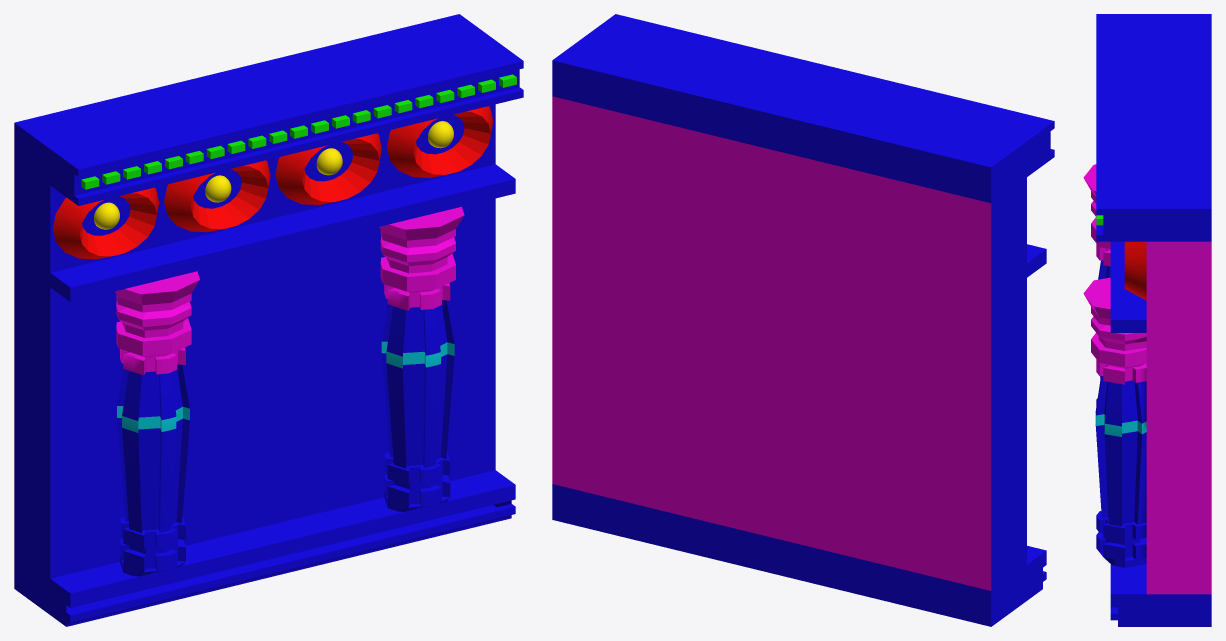
File: murhaut2lampe.FBX
3 renders of one model, left to right at view 1: azimuth 30°, elevation 25°; view 2: azimuth 150°, elevation 25°; view 3: azimuth 270°, elevation 25°, orthographic. The views are drawn at different scales.
Parts seen in each view (by area): view 1: Object001; view 2: Object001; view 3: Object001.
Boxes of the visible parts, x1,y1,x2,y2 form: Object001: (14, 14, 523, 626); Object001: (552, 14, 1054, 626); Object001: (1083, 14, 1211, 626).
Size of the model in its own units: 256 by 256 by 71.1.
